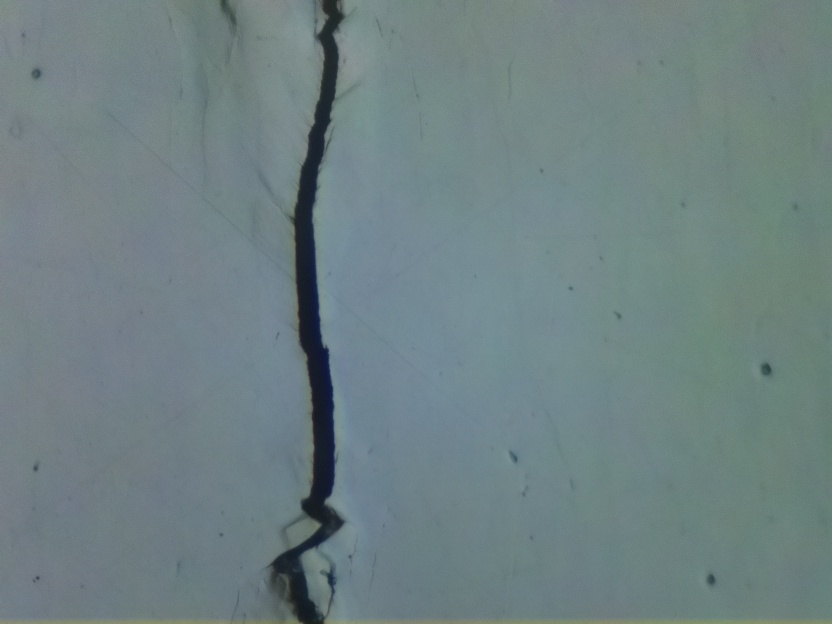crack: (267, 0, 346, 624)
